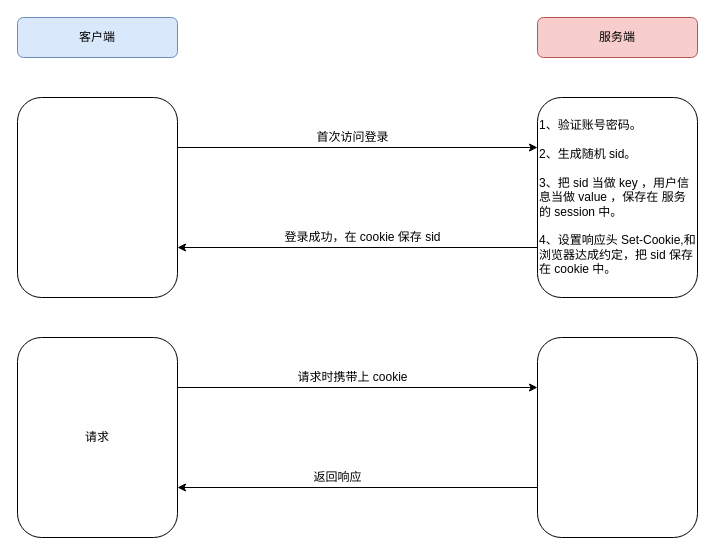
This 715x555 diagram has some shape labels left out. The box of each missing label's shape, as (x1, y1, x2, y2) in pixels:
1、根据请求的 cookie 中的 sid 做请求认证和查询用户信息。 2、认证成功返回响应。: (536, 336, 698, 538)
登录: (16, 96, 178, 298)
